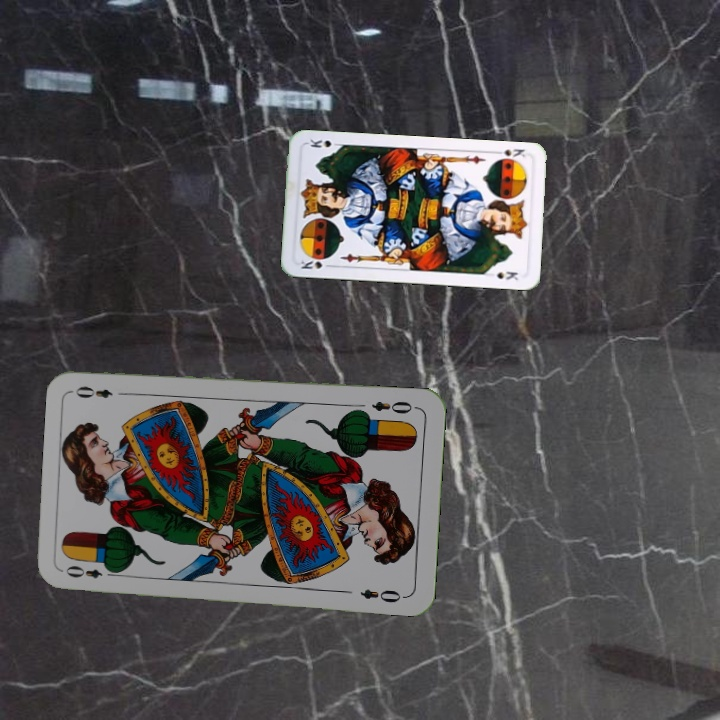EO: (61, 562, 120, 581), (368, 396, 420, 417)
SK: (297, 256, 336, 272), (490, 144, 528, 160)
